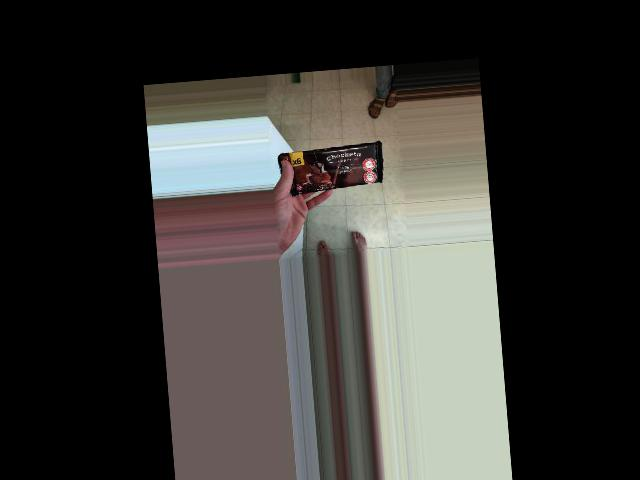chocolate: (325, 91, 397, 204)
